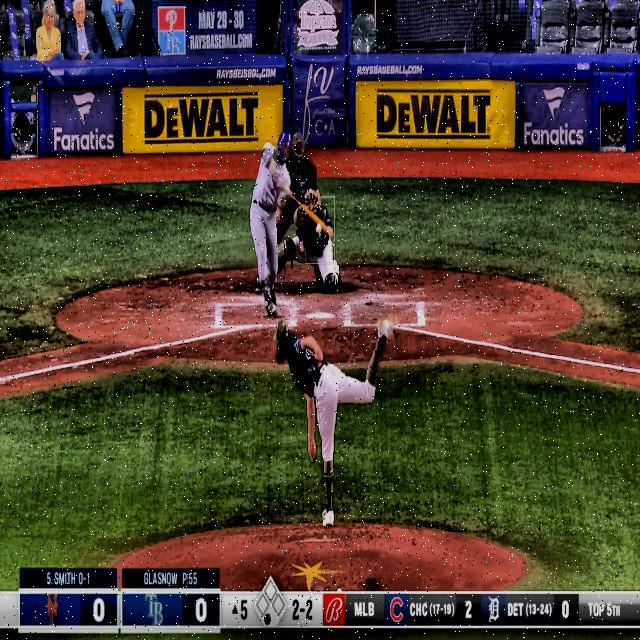baseball: (315, 222, 322, 235)
